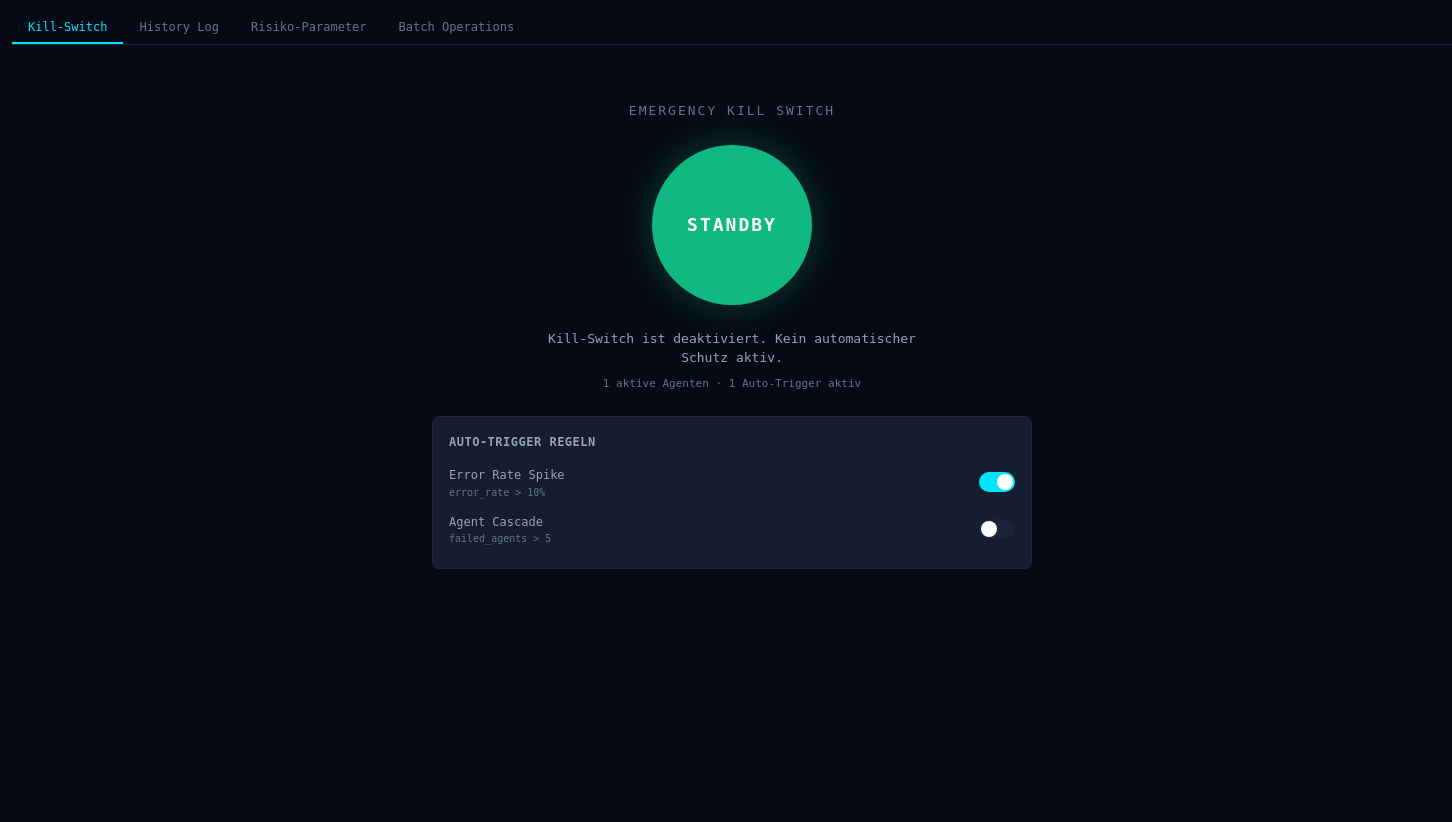
Test case: KillSwitchView › shows empty history message
What coordinates should you click on to do the following:
click the button "History Log"
I would click on:
 (179, 28)
Its box is [124,12,235,44].
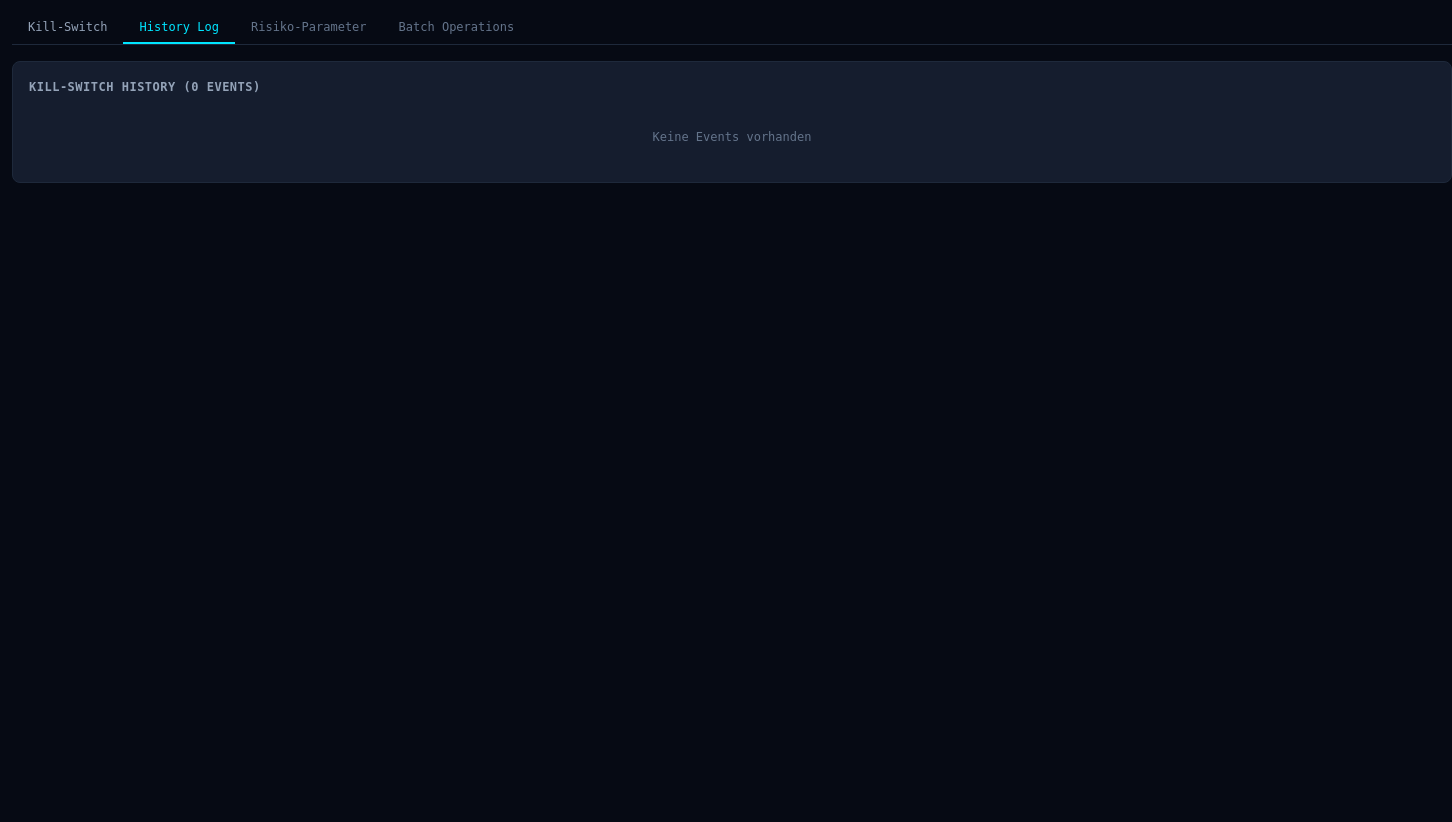
Expected: the text "Keine Events vorhanden" is shown, [652,130,812,144]
